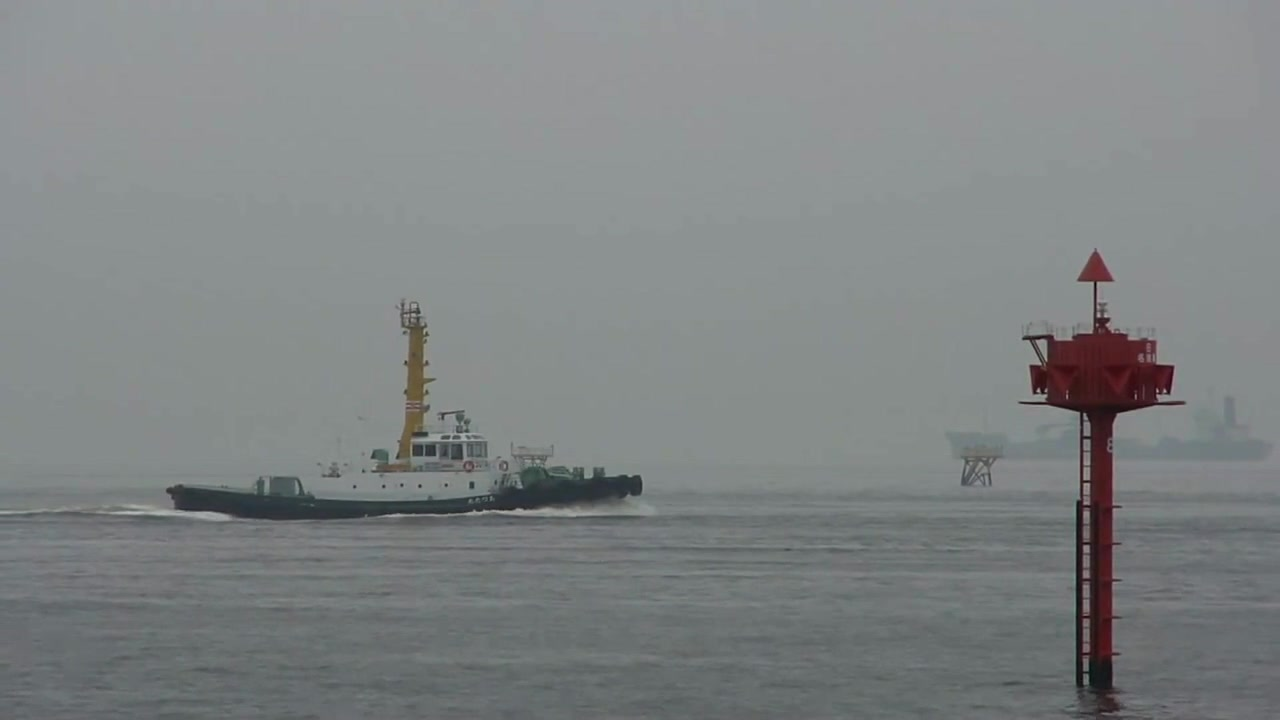boat: (166, 301, 648, 521)
